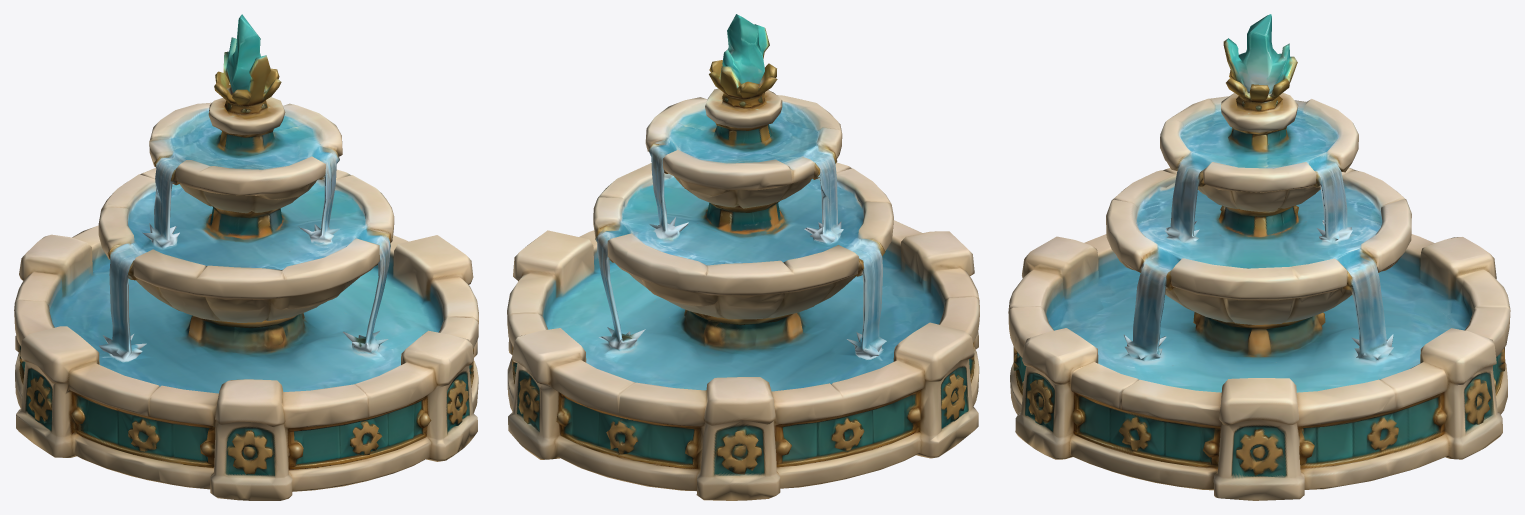
The model's file is X_Fountain_raw.glb.
The picture shows the model from 3 angles, left to right: view 1: azimuth 30°, elevation 25°; view 2: azimuth 150°, elevation 25°; view 3: azimuth 270°, elevation 25°; orthographic projection.
Visible parts, largest first — view 1: tripo_node_bf8583e1-a9c6-4f26-98bd-cba495d1a22b; view 2: tripo_node_bf8583e1-a9c6-4f26-98bd-cba495d1a22b; view 3: tripo_node_bf8583e1-a9c6-4f26-98bd-cba495d1a22b.
Part boxes in pixels (bbox=[...]): tripo_node_bf8583e1-a9c6-4f26-98bd-cba495d1a22b: bbox=[14, 14, 478, 500]; tripo_node_bf8583e1-a9c6-4f26-98bd-cba495d1a22b: bbox=[507, 14, 979, 500]; tripo_node_bf8583e1-a9c6-4f26-98bd-cba495d1a22b: bbox=[1008, 14, 1510, 500].
Size of the model in its own units: 0.9952 by 0.8429 by 1.
1 material, 1 textured.
